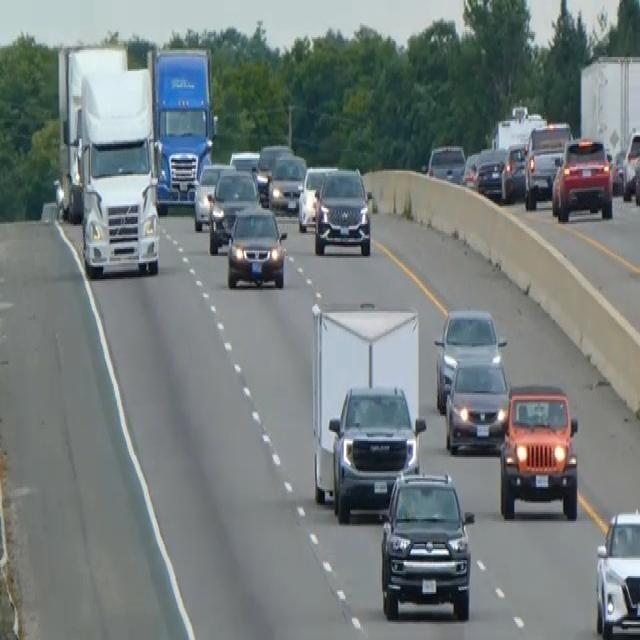car: (327, 380, 423, 521), (498, 380, 579, 521), (433, 306, 506, 410), (443, 354, 510, 453), (594, 507, 639, 638), (551, 135, 613, 222), (226, 202, 287, 290), (313, 165, 371, 256), (207, 167, 261, 254), (523, 119, 572, 210), (474, 140, 525, 202), (192, 160, 234, 231), (297, 164, 337, 231), (254, 142, 292, 203), (267, 153, 306, 211), (426, 142, 465, 185), (500, 140, 527, 201), (621, 128, 639, 203), (228, 149, 259, 176), (461, 150, 480, 188), (633, 142, 639, 208)
jeep: (377, 468, 476, 622)
lorry: (55, 41, 162, 279), (147, 44, 217, 210)
